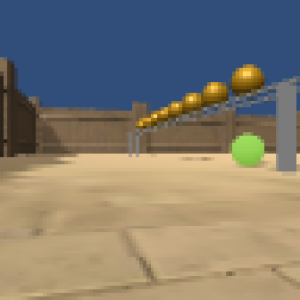goodGoal: (229, 132, 266, 168)
goodGoalMulti: (229, 63, 265, 93), (202, 81, 227, 103), (181, 93, 203, 111), (167, 103, 182, 119), (156, 107, 169, 122), (138, 117, 153, 129)
wall: (276, 83, 297, 173), (128, 132, 133, 156), (136, 135, 141, 155)
